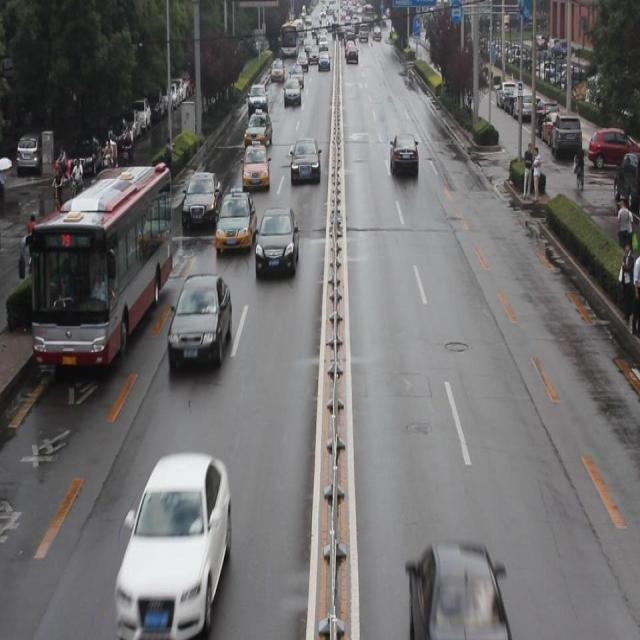car: (113, 451, 231, 640), (402, 541, 509, 640), (168, 274, 232, 372), (255, 206, 299, 280), (215, 187, 256, 253), (90, 170, 152, 213), (181, 172, 222, 230), (242, 140, 270, 191), (291, 139, 320, 185), (389, 134, 418, 178), (246, 109, 272, 148), (247, 82, 268, 114)
van: (19, 161, 172, 368)
